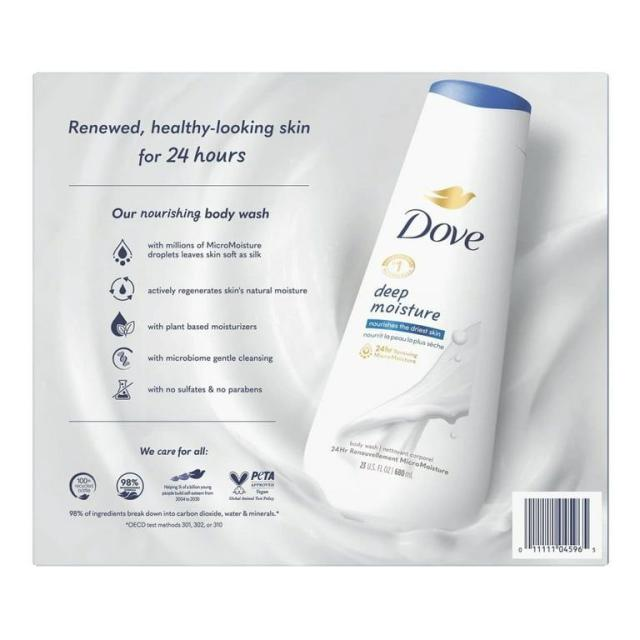lotion-moisture: (42, 80, 605, 568)
